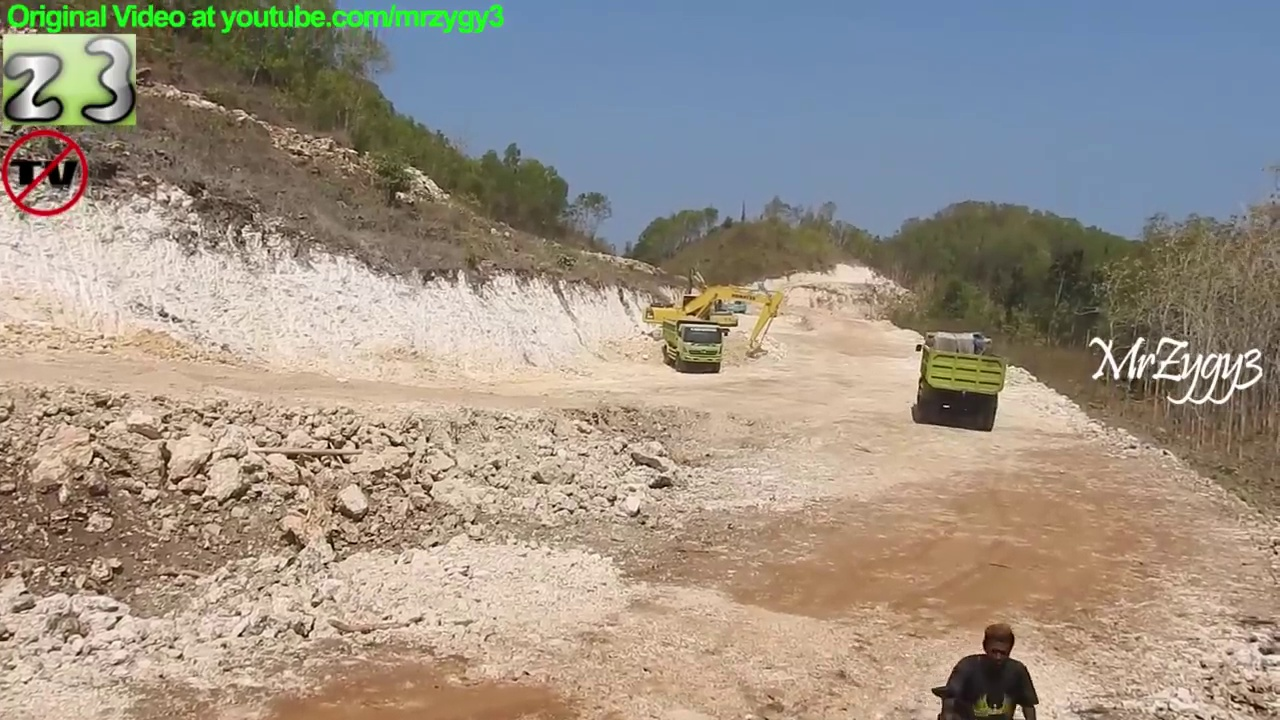excavator: (641, 282, 791, 362), (675, 264, 736, 336), (723, 281, 757, 320)
truck: (912, 328, 1007, 433), (658, 316, 733, 376)
